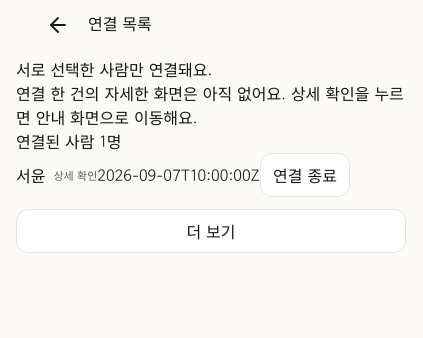
ConnectionsPage › retries an append failure with the preserved cursor
Expected: the text "서윤" is shown, [16,163,46,187]
Click the button "더 보기" at (211, 231), box [16,209,406,253]
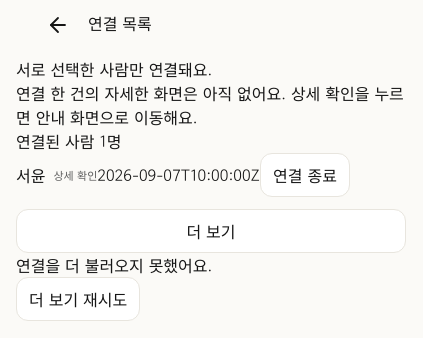
Expected: the message shows "연결을 더 불러오지 못했어요.", [16,253,212,277]
Click the button "더 보기 재시도" at (78, 299), box [16,277,140,321]
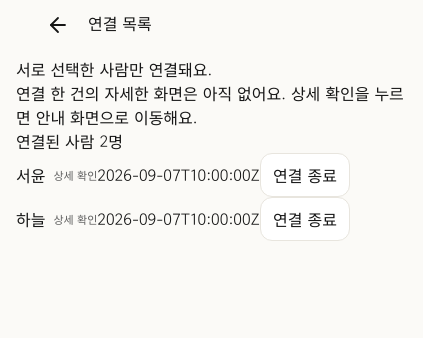
Expected: the text "하늘" is shown, [16,207,46,231]
